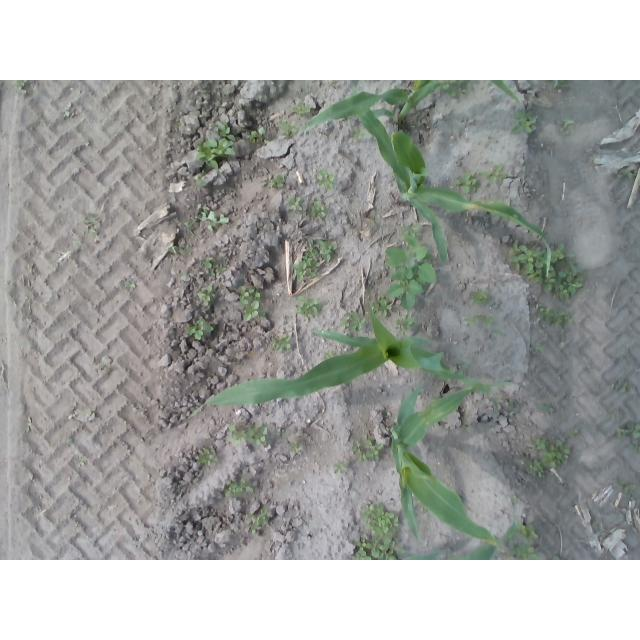Maize: (188, 300, 501, 421), (359, 109, 554, 280), (391, 381, 513, 552), (299, 80, 526, 136), (388, 524, 517, 561)
Weeds: (510, 243, 585, 301), (385, 236, 440, 313), (350, 500, 401, 560), (196, 120, 238, 172), (293, 235, 336, 283), (528, 437, 572, 479), (185, 202, 230, 234), (240, 285, 269, 324), (535, 305, 573, 332), (229, 425, 272, 448), (617, 420, 640, 452), (246, 508, 271, 537), (511, 109, 538, 135), (439, 80, 473, 100), (359, 440, 386, 465), (226, 477, 259, 497), (296, 296, 322, 321), (456, 169, 480, 196), (201, 256, 230, 278), (187, 318, 213, 342), (482, 164, 507, 188), (340, 309, 364, 333), (170, 239, 195, 261), (315, 167, 338, 190), (84, 212, 104, 236), (198, 283, 219, 305), (396, 311, 417, 333), (277, 120, 298, 141), (272, 333, 293, 354), (514, 521, 538, 539), (469, 290, 493, 308), (514, 545, 542, 560), (191, 176, 212, 196), (334, 460, 353, 481), (372, 299, 393, 318), (199, 448, 218, 468), (309, 202, 331, 219), (249, 127, 267, 146), (294, 101, 314, 118), (266, 174, 286, 190), (286, 194, 302, 214), (11, 80, 29, 97), (511, 490, 526, 510), (286, 442, 306, 457), (403, 221, 421, 237), (559, 119, 574, 138), (64, 100, 77, 120), (354, 127, 370, 142), (615, 377, 630, 392), (528, 339, 544, 353), (462, 313, 478, 327), (617, 479, 635, 491), (611, 409, 621, 427), (84, 407, 96, 422), (622, 168, 635, 181), (101, 356, 112, 370), (483, 314, 493, 329), (551, 80, 569, 88), (322, 350, 339, 358), (541, 406, 556, 415), (126, 281, 139, 291), (26, 418, 33, 435), (352, 441, 361, 454), (280, 430, 292, 439), (68, 412, 80, 421), (493, 330, 504, 339), (73, 239, 83, 248), (571, 427, 581, 434), (67, 438, 74, 446), (552, 556, 562, 560), (78, 462, 86, 467)
